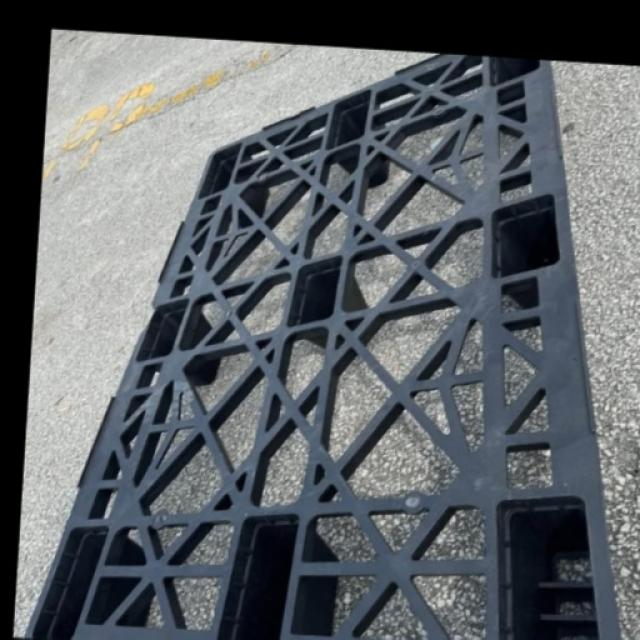non-igps: (19, 50, 631, 640)
